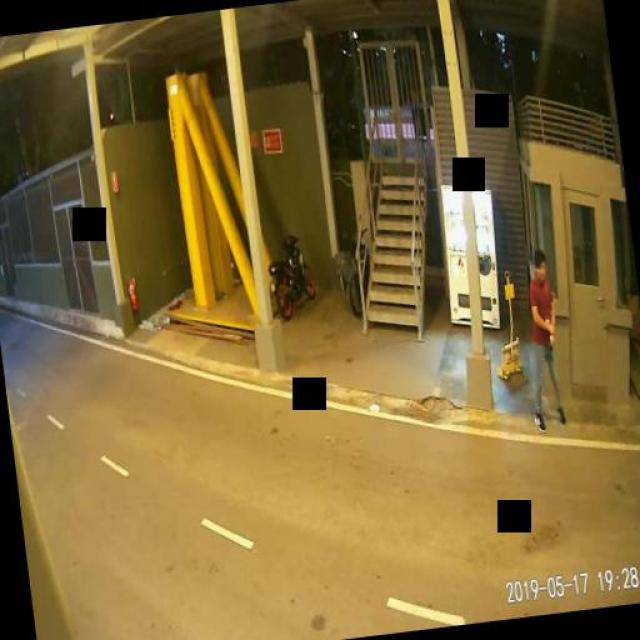gun: (545, 332, 555, 358)
